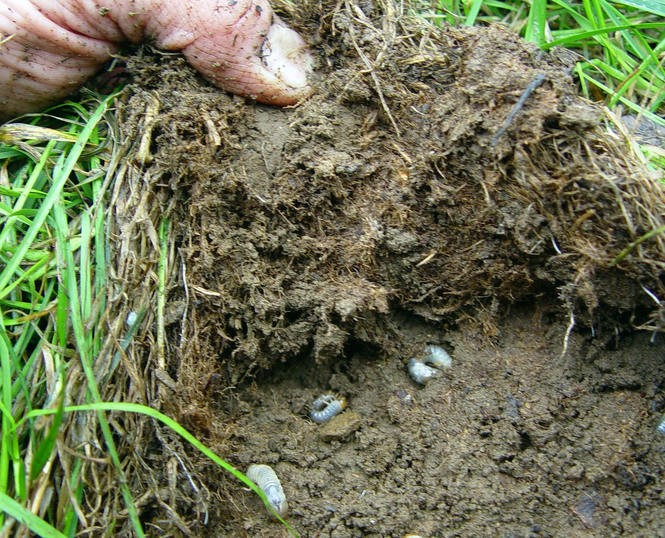crabgrass: (13, 114, 131, 538), (479, 1, 665, 108)
